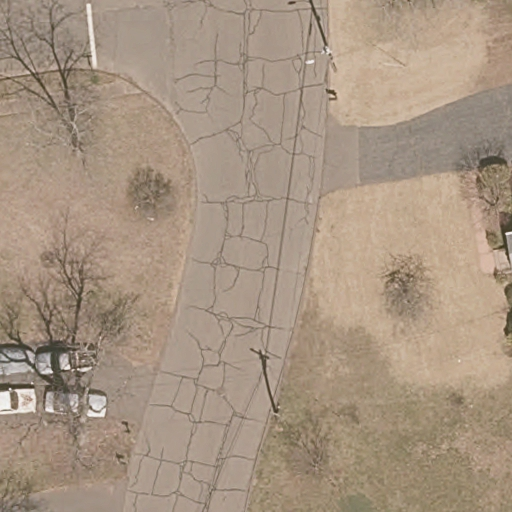DT: (305, 44, 338, 76), (271, 400, 286, 433)
